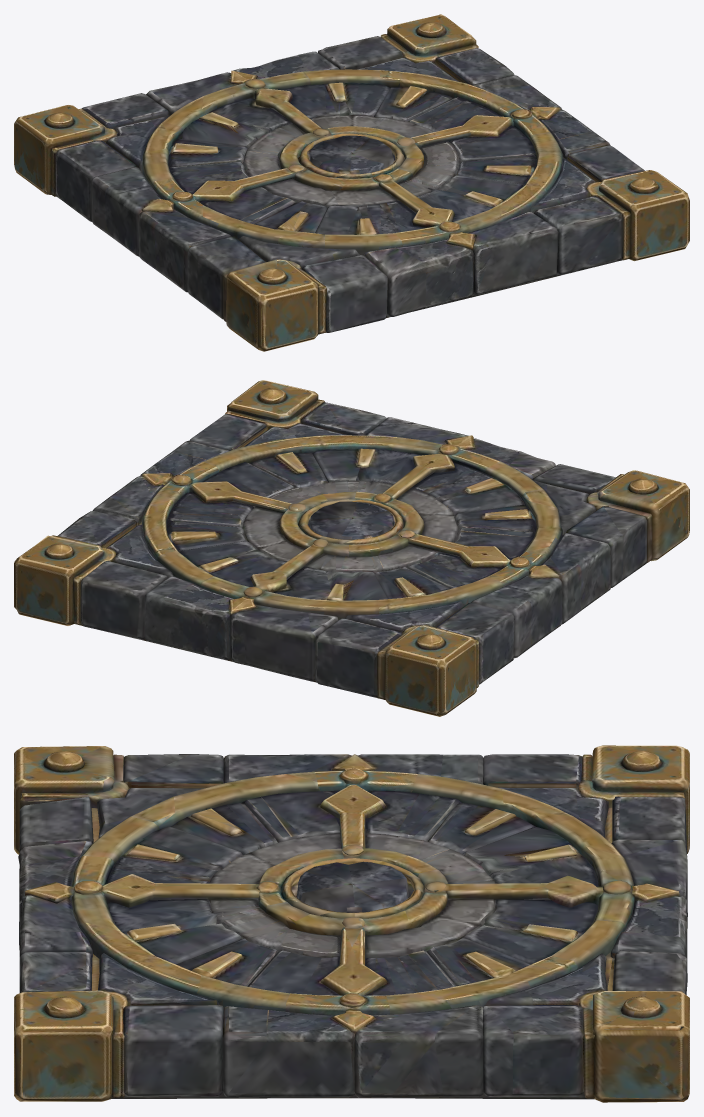
The model's file is tower_floor.glb.
3 renders of one model, top to bottom at view 1: azimuth 30°, elevation 25°; view 2: azimuth 150°, elevation 25°; view 3: azimuth 270°, elevation 25°, orthographic. The views are drawn at different scales.
Size of the model in its own units: 0.9492 by 0.1406 by 0.9483.
1 material, 1 textured.
